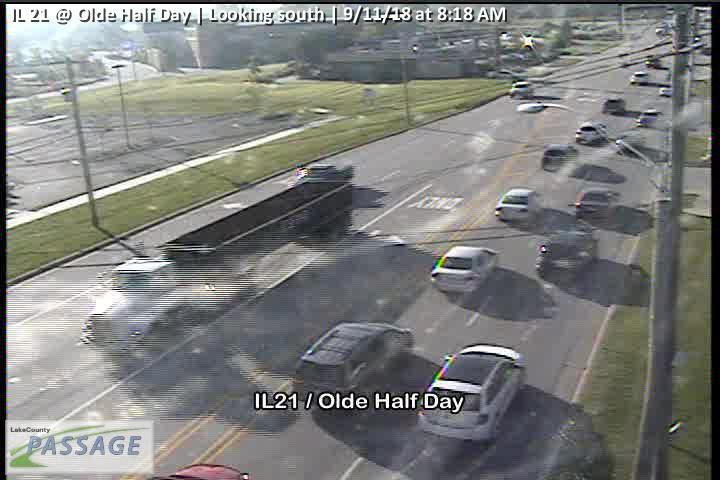SUV: (418, 344, 527, 446), (291, 320, 415, 407), (534, 226, 598, 280), (541, 142, 580, 171), (575, 120, 608, 145)
Sedan: (431, 245, 499, 293), (495, 187, 540, 221), (575, 186, 620, 220), (636, 109, 663, 127)
Truck: (79, 179, 354, 348)
